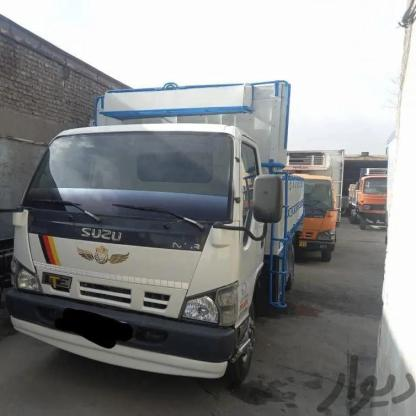Truck: (0, 74, 295, 374), (278, 164, 343, 256), (353, 174, 393, 234)
